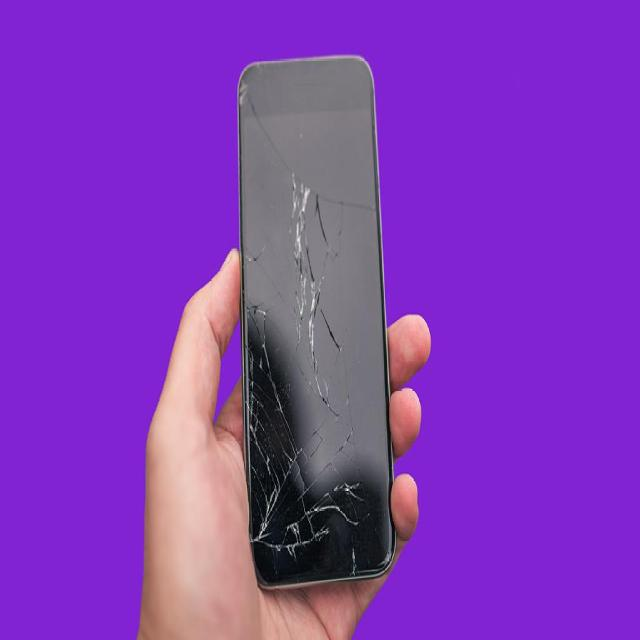Smartphone: (230, 59, 404, 588)
